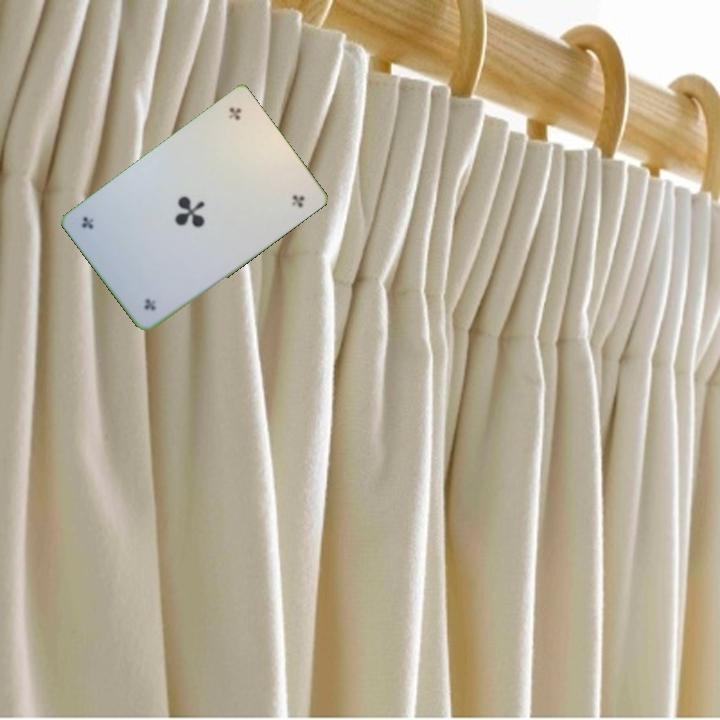c_a.png: (108, 237, 193, 323), (195, 96, 279, 183)
